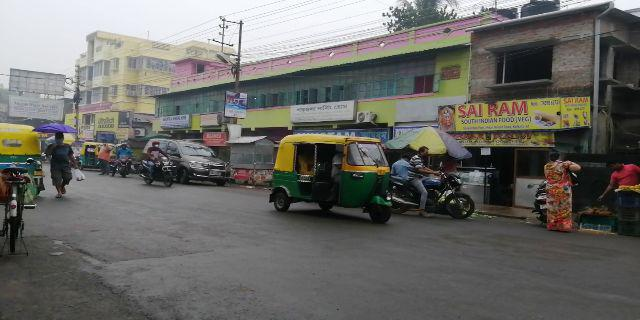Autorickshaw: (268, 132, 396, 219), (1, 117, 43, 204)
Car: (146, 134, 230, 190)
Motorbike: (389, 146, 476, 223), (137, 139, 176, 190)
